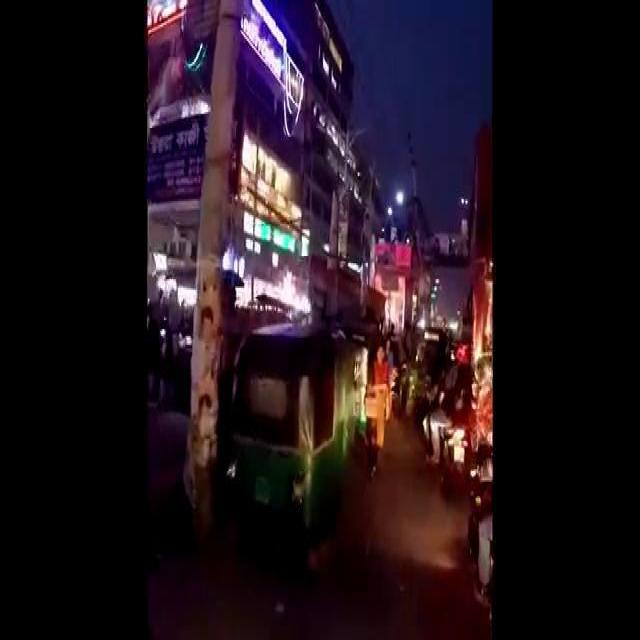10: (438, 416, 469, 501)
17: (222, 316, 354, 562), (404, 325, 444, 411), (352, 322, 372, 439)
Truck: (464, 119, 492, 446)
